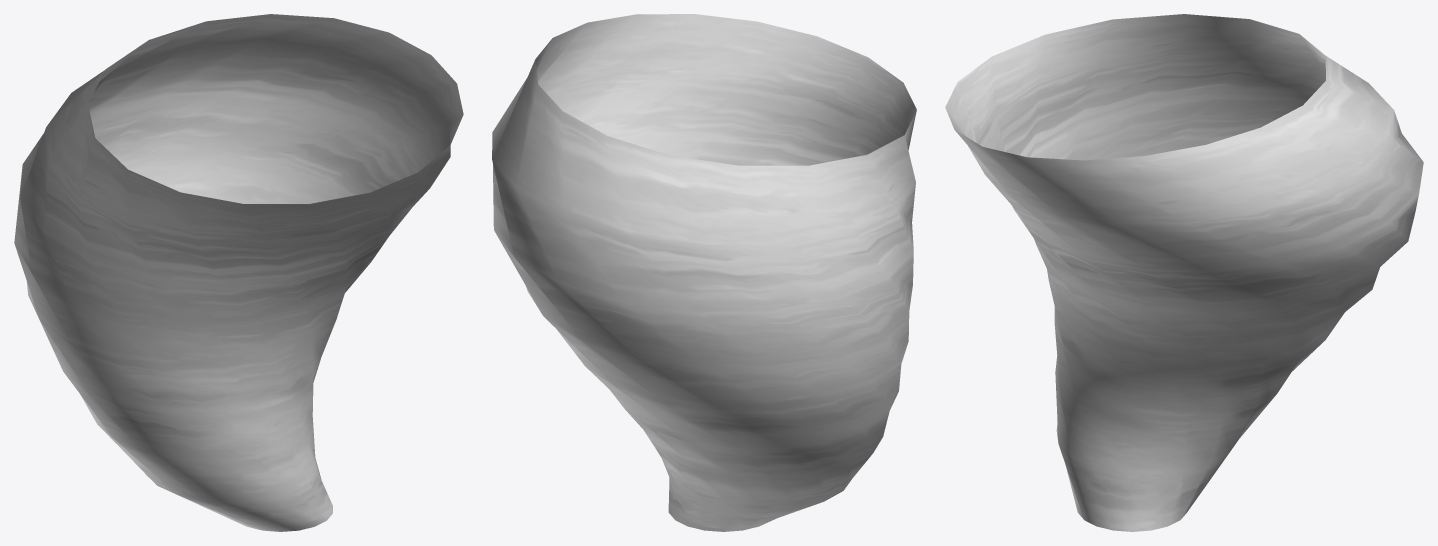
Rendered from 0369_longjuanfeng_heiyane.glb.
3 views of the same model, side by side, from view 1: azimuth 30°, elevation 25°; view 2: azimuth 150°, elevation 25°; view 3: azimuth 270°, elevation 25° (orthographic). The views are drawn at different scales.
Bounding box in the file's own units: 2.04 × 2.2 × 2.17.
Materials: 1 (1 with a texture image).
